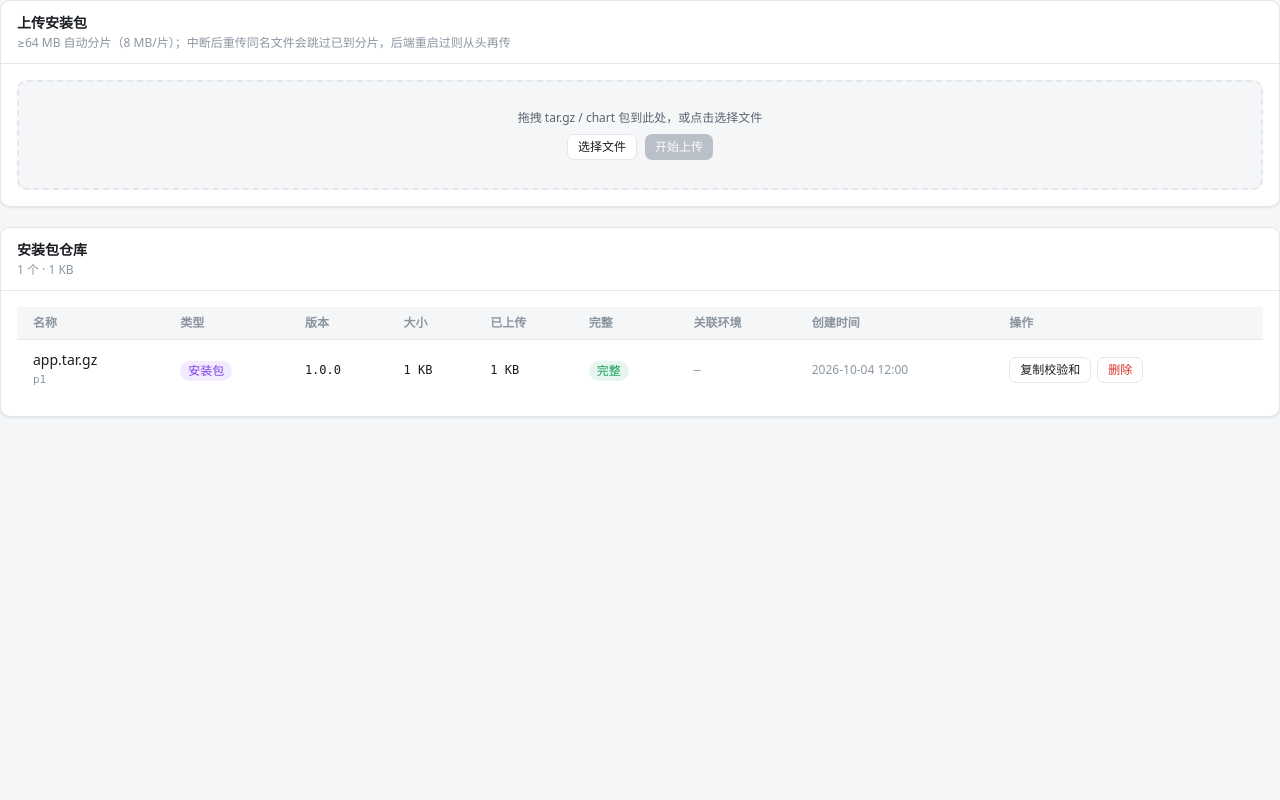
Test: Packages 页 › writeText 拒绝：给「浏览器不允许写入剪贴板」错误 toast
What coordinates should you click on to do the following:
click the button "复制校验和"
I would click on:
 (1050, 370)
Its box is [1009,357,1091,383].
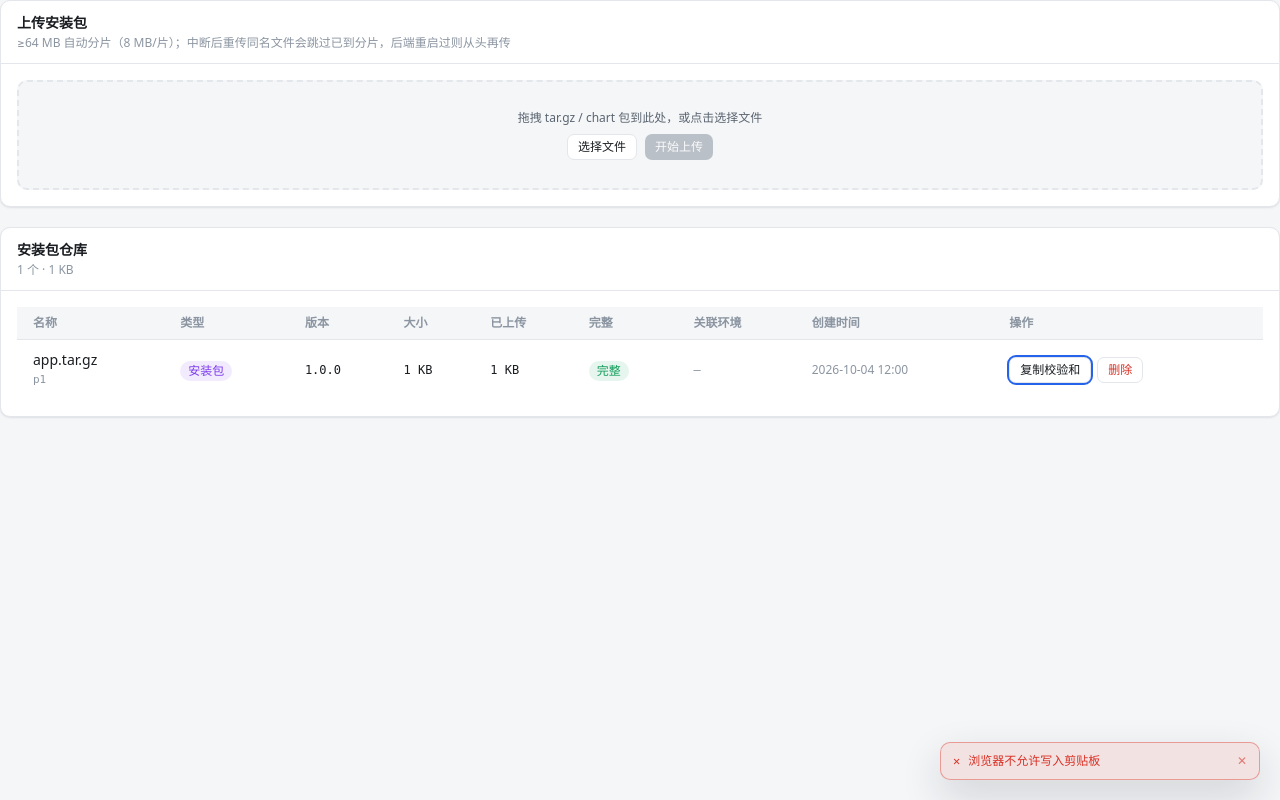
Check: the text "浏览器不允许写入剪贴板" is shown, box [968,752,1100,769]
